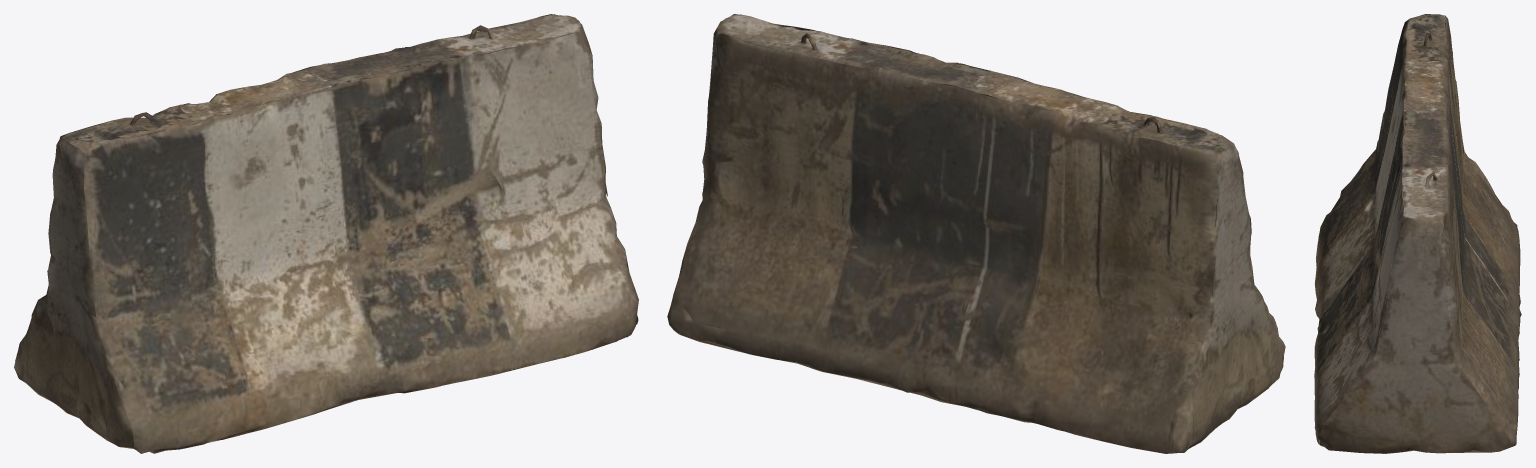
File: road_barrier.glb
The picture shows the model from 3 angles, left to right: view 1: azimuth 30°, elevation 25°; view 2: azimuth 150°, elevation 25°; view 3: azimuth 270°, elevation 25°; orthographic projection. The views are drawn at different scales.
Visible parts, largest first — view 1: concrete_road_barrier; view 2: concrete_road_barrier; view 3: concrete_road_barrier.
Boxes of the visible parts, x1=… form: concrete_road_barrier: x1=14, y1=14, x2=638, y2=453; concrete_road_barrier: x1=667, y1=14, x2=1285, y2=453; concrete_road_barrier: x1=1314, y1=14, x2=1521, y2=453.
Size of the model in its own units: 1.54 by 0.8336 by 0.6358.
1 material, 1 textured.
